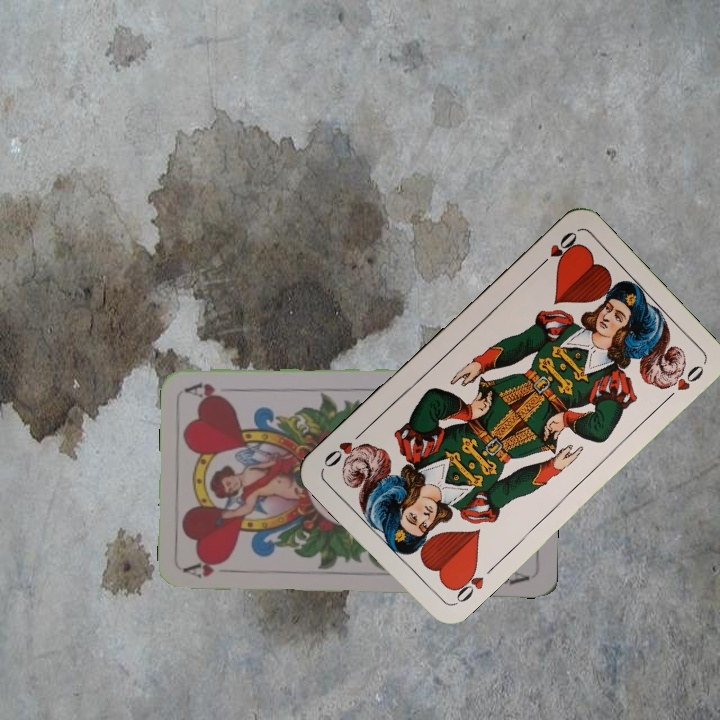HA: (182, 557, 241, 581)
HO: (532, 227, 580, 273), (446, 561, 486, 608)
